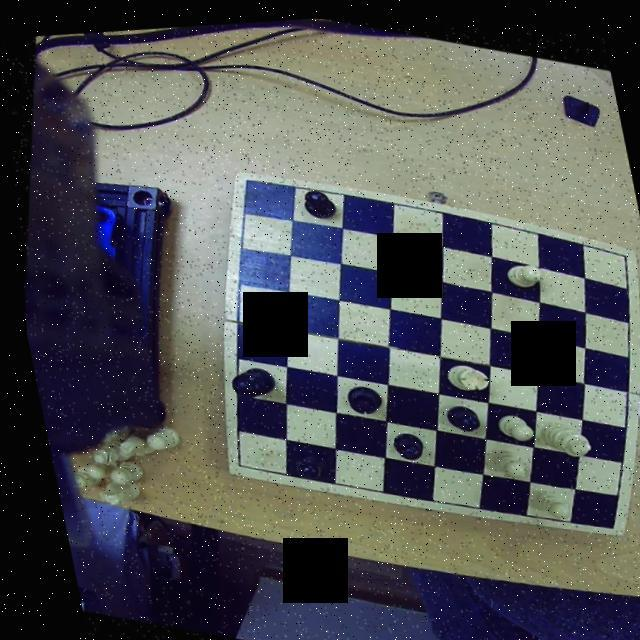chess-table-corners: (230, 165, 264, 195), (216, 444, 247, 474), (584, 506, 618, 530), (608, 238, 636, 264)
